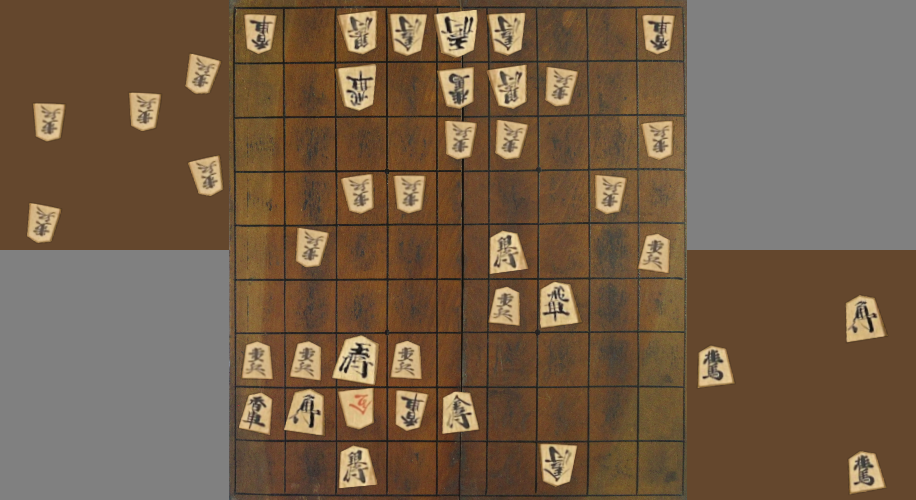A: (333, 336, 378, 384), (540, 282, 579, 327), (285, 390, 323, 435), (340, 446, 376, 488), (491, 232, 527, 274), (443, 392, 478, 433), (240, 394, 271, 434), (291, 342, 321, 380), (639, 235, 669, 272), (391, 342, 420, 379), (243, 342, 272, 379), (490, 288, 518, 325)
B: (436, 11, 477, 57), (338, 66, 375, 110), (488, 66, 526, 108), (390, 14, 426, 55), (489, 14, 525, 55), (340, 12, 375, 54), (541, 445, 576, 486), (339, 389, 374, 429), (440, 68, 472, 108), (546, 67, 577, 106), (297, 229, 328, 267), (342, 175, 373, 213), (244, 15, 275, 53), (397, 391, 427, 430), (496, 121, 527, 158), (446, 121, 475, 159), (643, 121, 672, 159), (395, 177, 425, 213), (596, 176, 625, 213), (644, 16, 673, 53)
C: (846, 296, 885, 342), (850, 452, 884, 494), (698, 347, 733, 387)
D: (189, 157, 223, 196), (187, 55, 220, 94), (28, 204, 60, 243), (130, 94, 160, 131), (35, 104, 64, 141)
